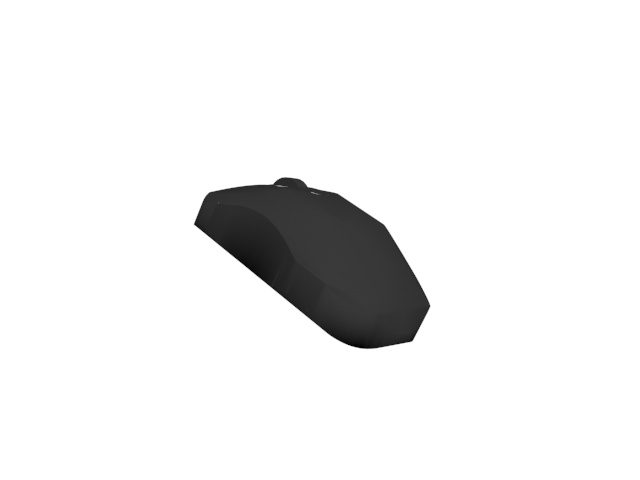mouse: (193, 177, 432, 352)
